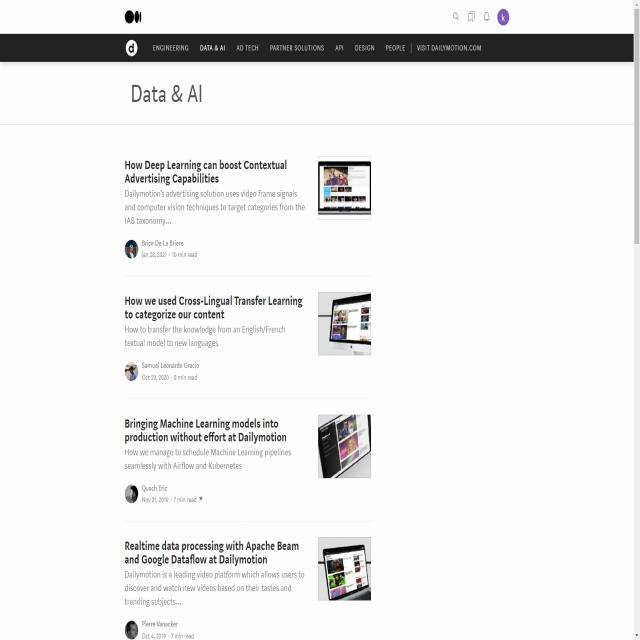menu-bar: (446, 3, 515, 29)
menu-panel: (115, 33, 489, 63)
